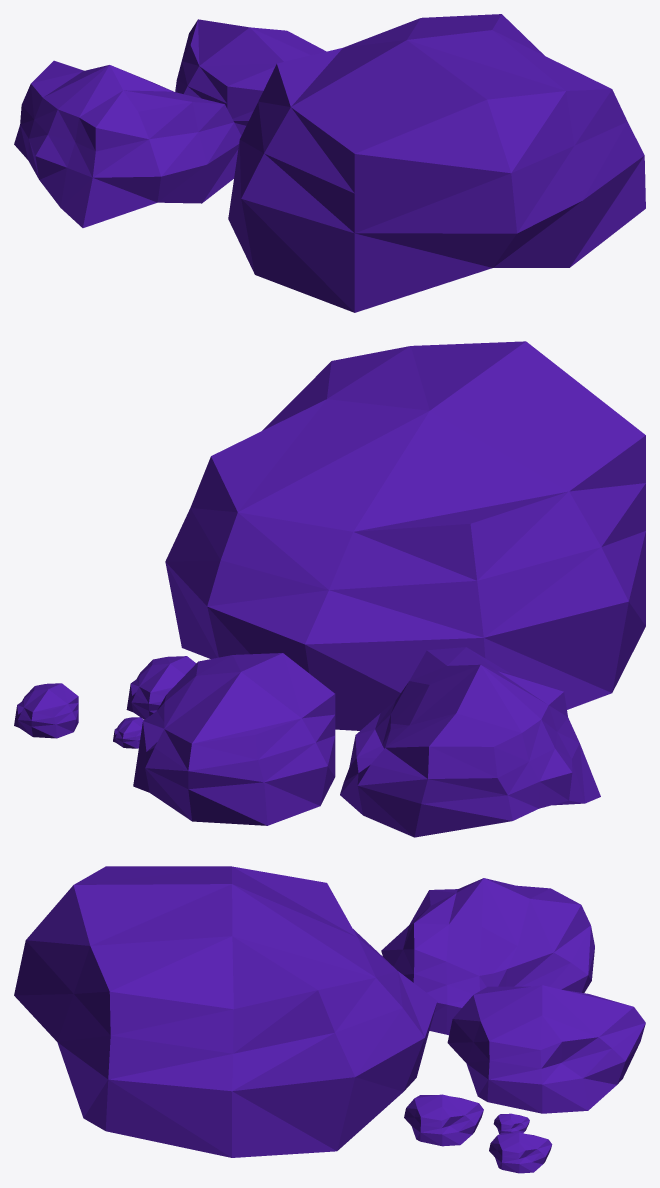
Rendered from stone1.obj.
3 renders of one model, top to bottom at view 1: azimuth 30°, elevation 25°; view 2: azimuth 150°, elevation 25°; view 3: azimuth 270°, elevation 25°, orthographic. The views are drawn at different scales.
Visible parts, largest first — view 1: Box001, Box006, Box002; view 2: Box001, Box006, Box002, Box005, Box003, Box004; view 3: Box001, Box006, Box002, Box003, Box005, Box004.
Boxes of the visible parts, x1,y1,x2,y2 form: Box001: (228,14,645,312); Box006: (14,60,241,227); Box002: (175,19,326,135); Box001: (165,341,645,730); Box006: (340,647,600,837); Box002: (133,653,335,825); Box005: (14,683,78,738); Box003: (126,656,196,719); Box004: (113,717,143,748); Box001: (14,866,437,1157); Box006: (381,878,594,1035); Box002: (447,985,645,1113); Box003: (404,1094,483,1146); Box005: (489,1132,552,1173); Box004: (493,1113,529,1133).
Size of what is drawn, in the model's own units: 85.07 by 36.27 by 106.
